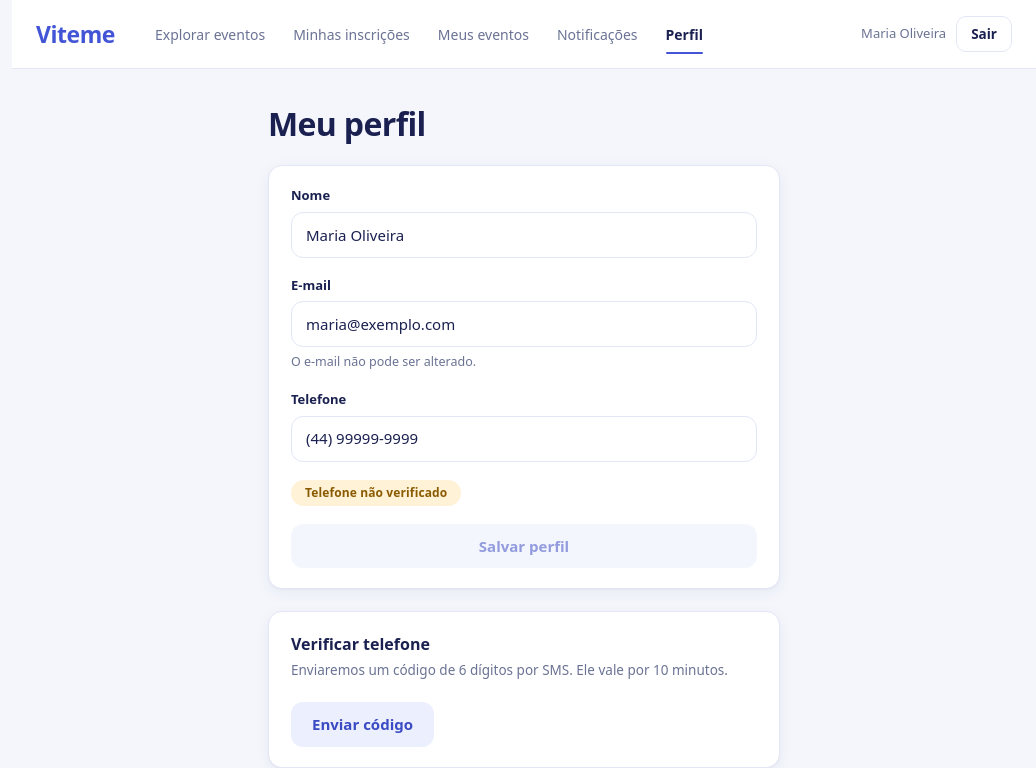
Test case: verificação do telefone › CTW14 — envia o código, bloqueia o reenvio por 60 s e confirma
Click the button "Enviar código": x=362, y=725 left=291, top=702, right=434, bottom=747
(page scrolled)
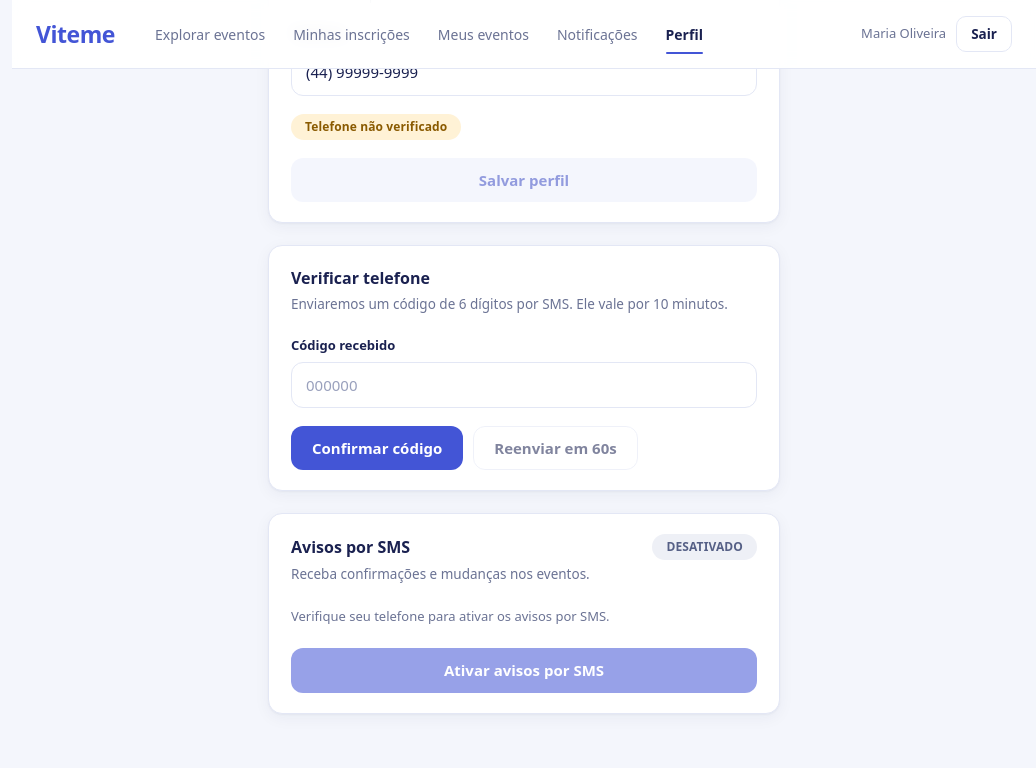
Now the button "Reenviar em 60s" is disabled, box left=473, top=426, right=638, bottom=470
In the field labelled "Código recebido": x=524, y=385 left=291, top=362, right=757, bottom=408, type "123456"
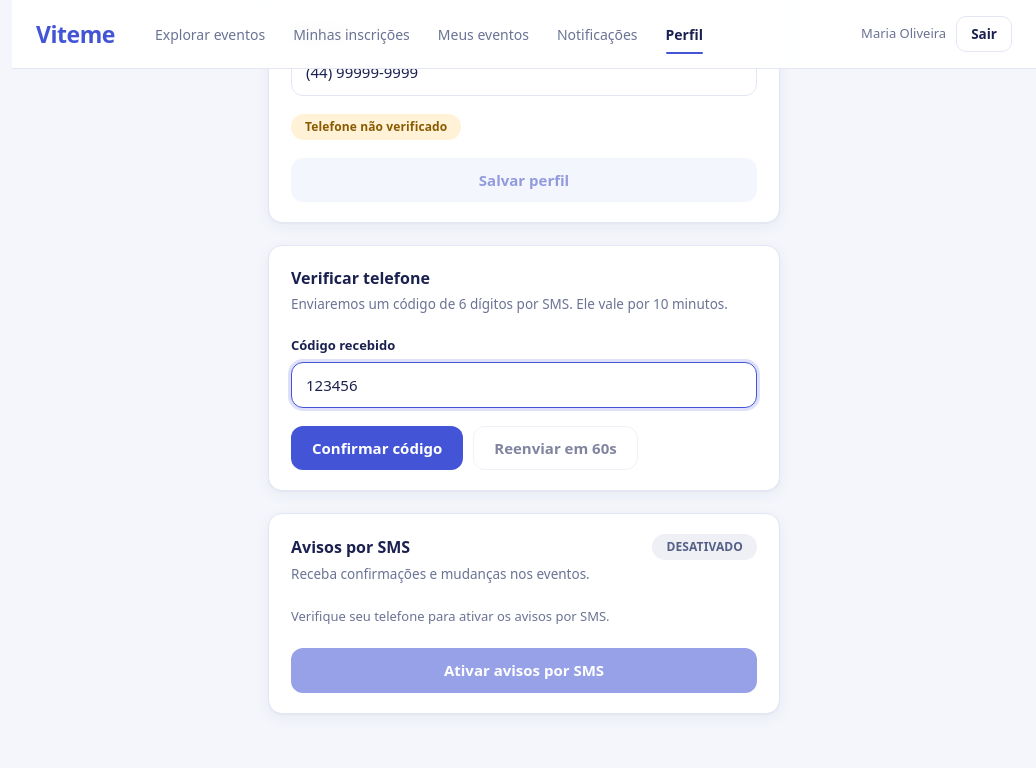
Click the button "Confirmar código": x=377, y=448 left=291, top=426, right=463, bottom=470
(page scrolled)
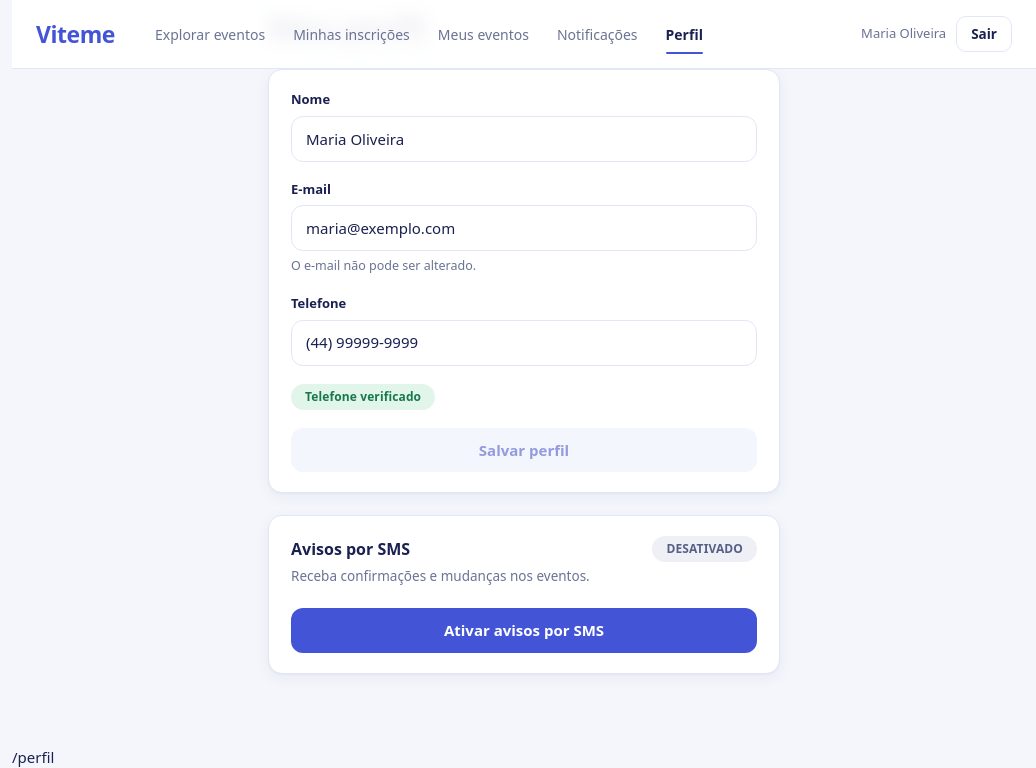
Now the text "Telefone verificado" is shown, box left=291, top=384, right=435, bottom=410
Now the button "Ativar avisos por SMS" is enabled, box left=291, top=608, right=757, bottom=653
